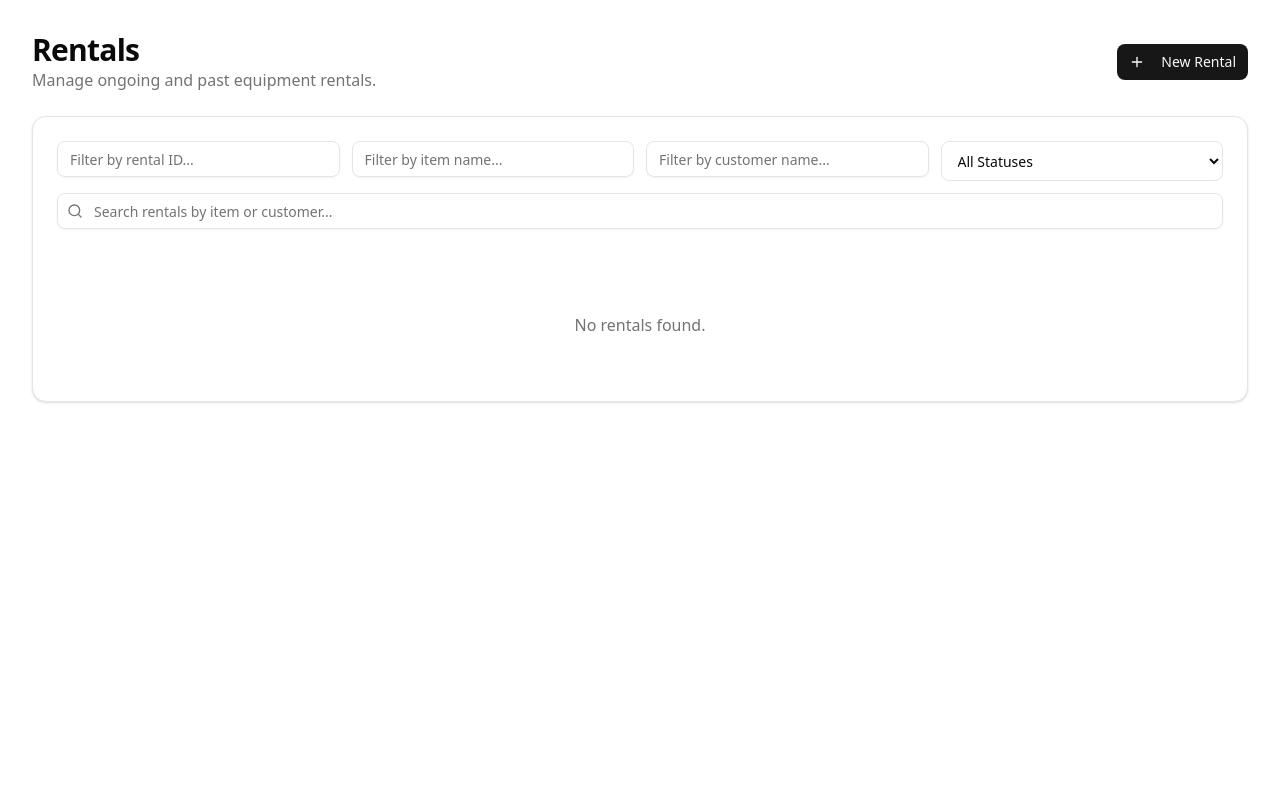
Create New Rental - deposit field › keeps the Total Security Deposit summary in sync while clearing and retyping the deposit
The image size is (1280, 800).
Click the button "New Rental".
click(1183, 62)  # box [1117,44,1248,80]
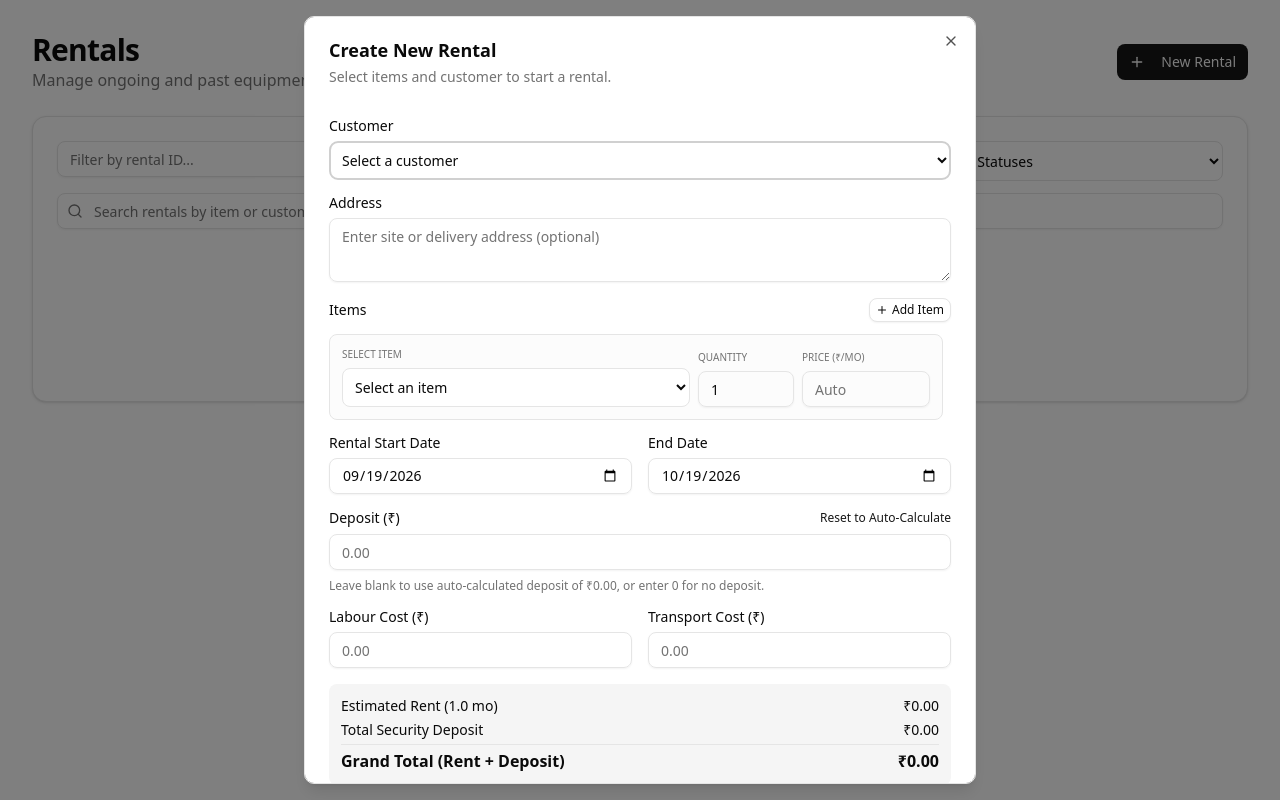
Select "Jane Doe (jane@example.com)" in the dropdown labelled "Customer" at (640, 160), box [329,141,951,180]
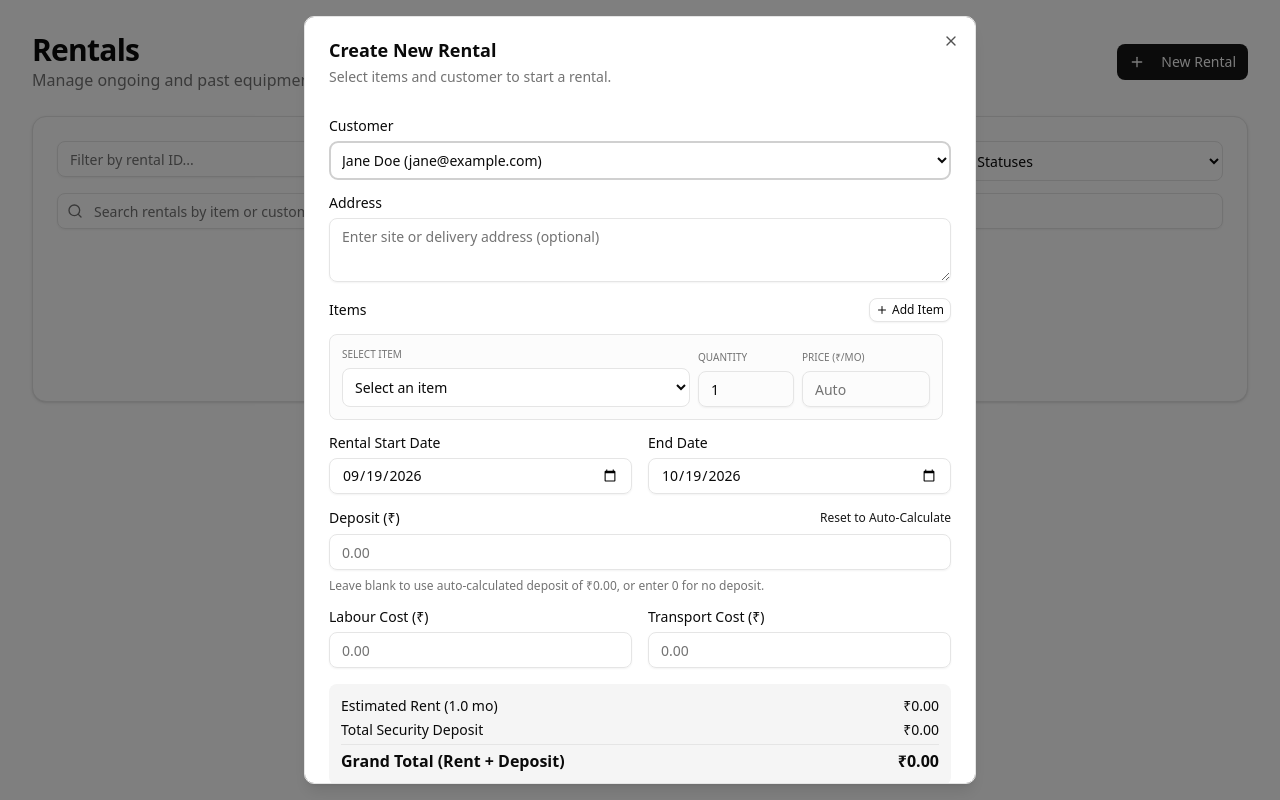
Select "Scaffolding Pipe (Stock: 10)" in the 2nd dropdown at (516, 388), box [342,368,690,407]
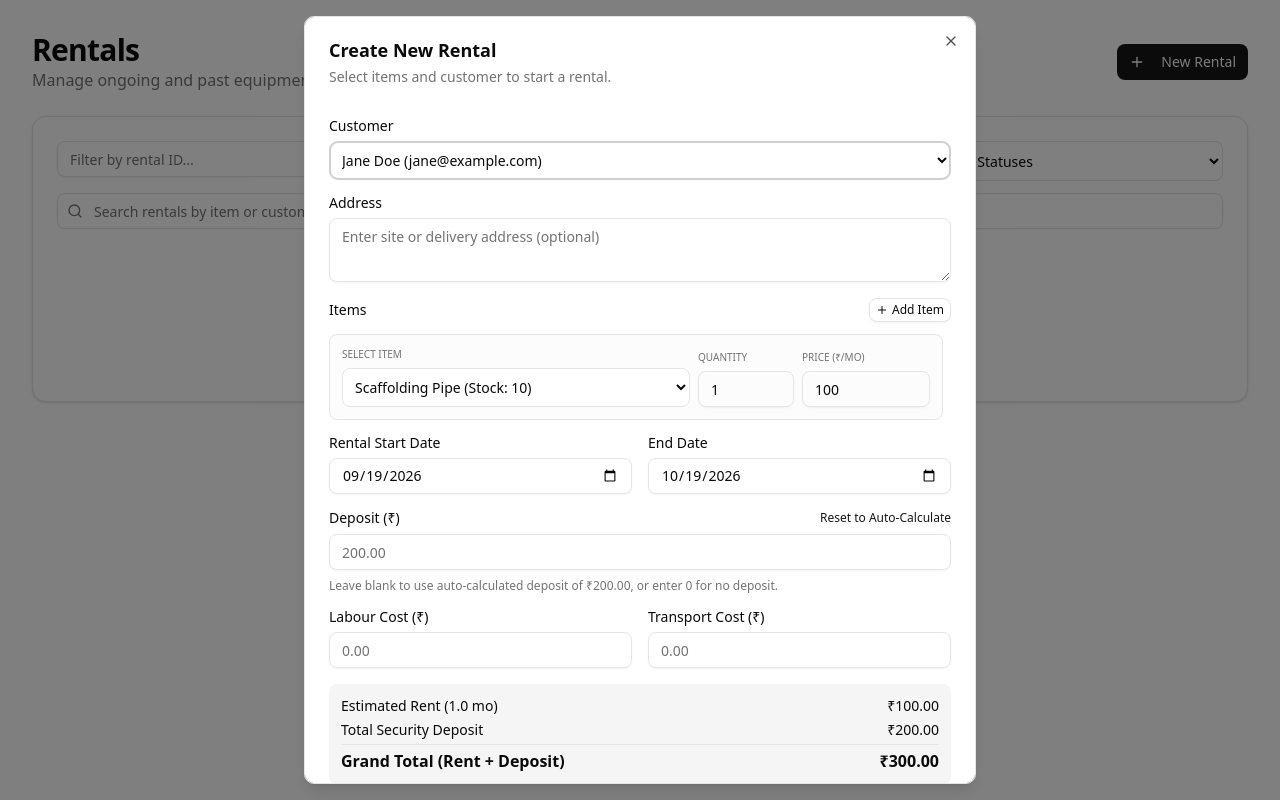
Type "5" into the number field labelled "Deposit (₹)".
click(640, 552); type("5")  # box [329,534,951,570]
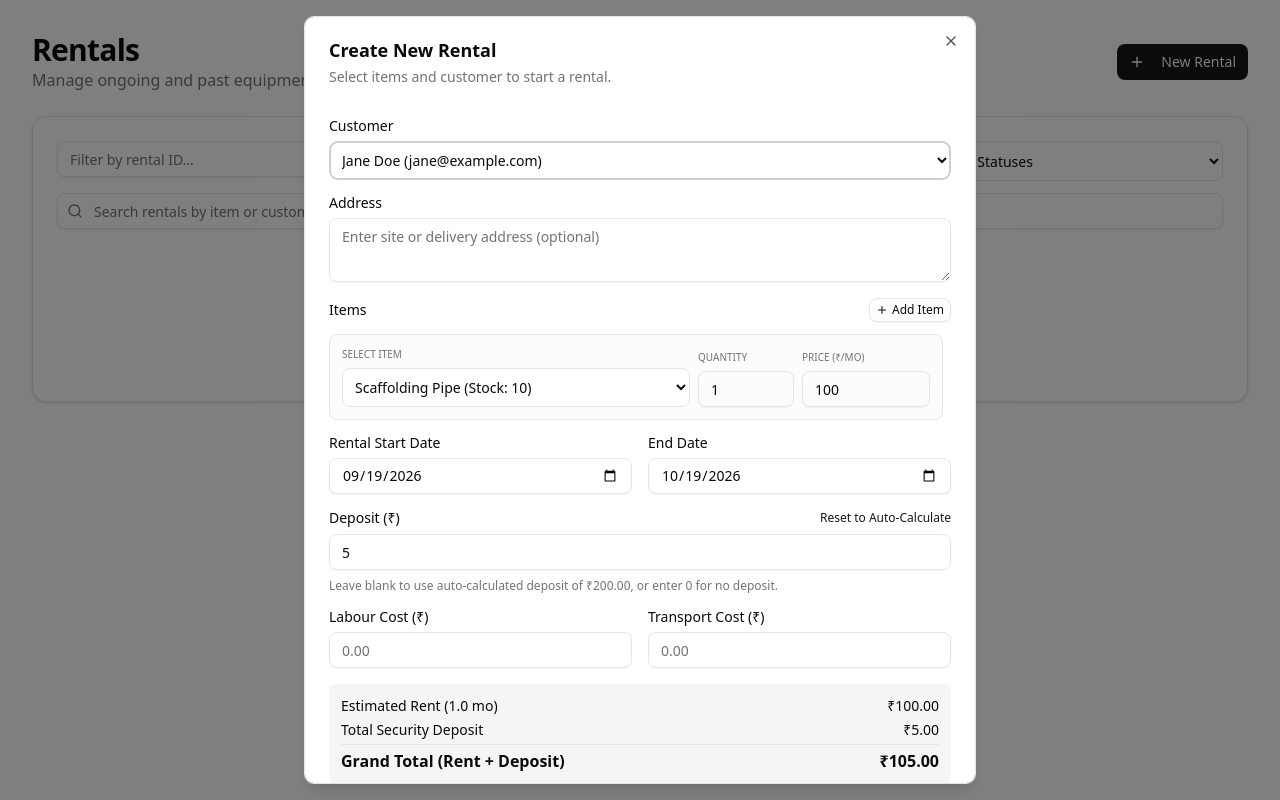
Replace the text in the number field labelled "Deposit (₹)" with "50" at (640, 552), box [329,534,951,570]
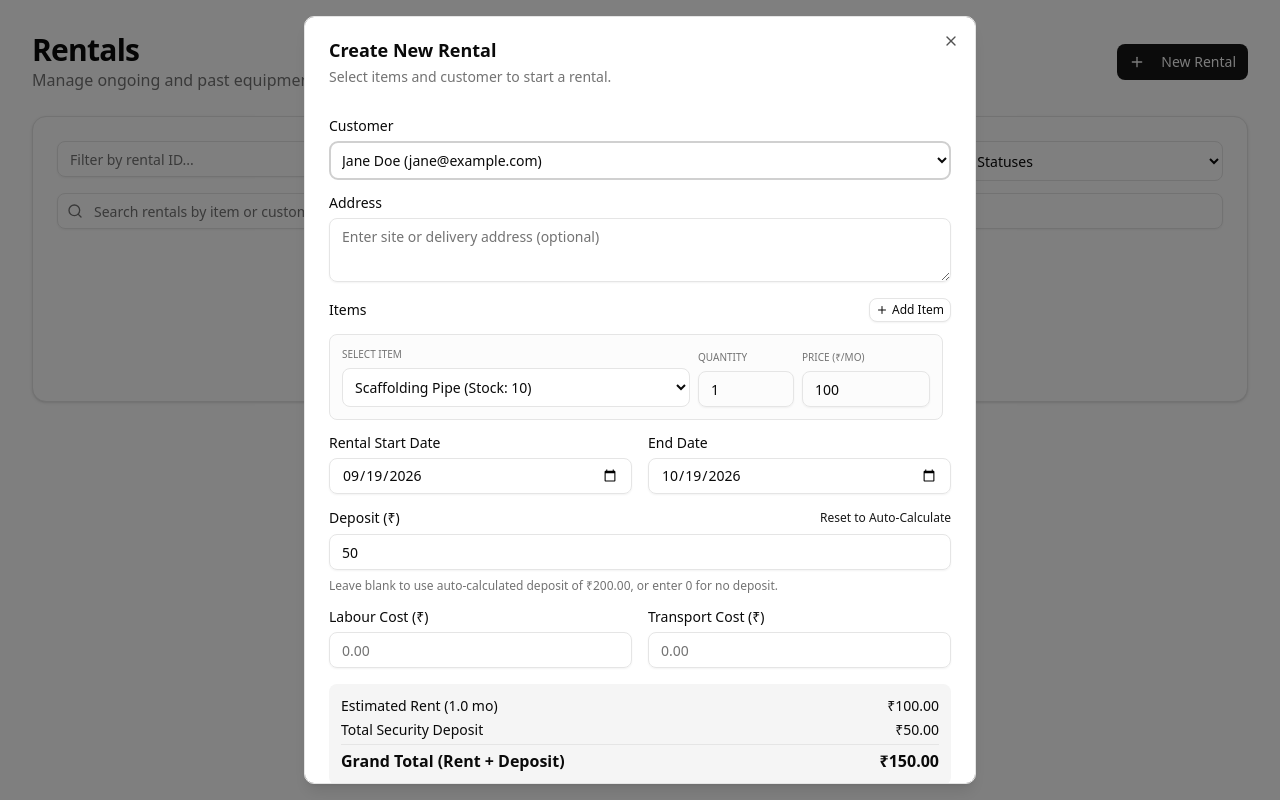
Replace the text in the number field labelled "Deposit (₹)" with "500" at (640, 552), box [329,534,951,570]
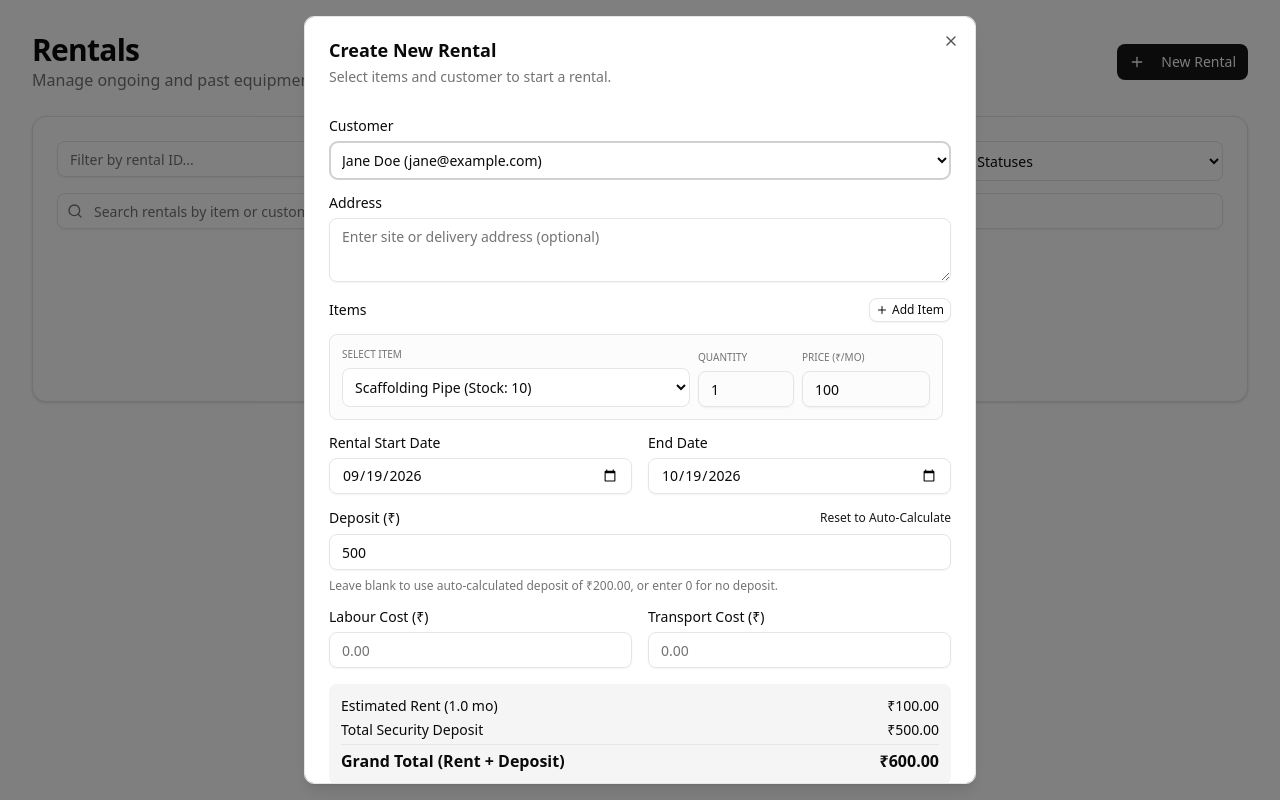
Expected: the text "₹500.00" is shown, [887,720,939,740]
